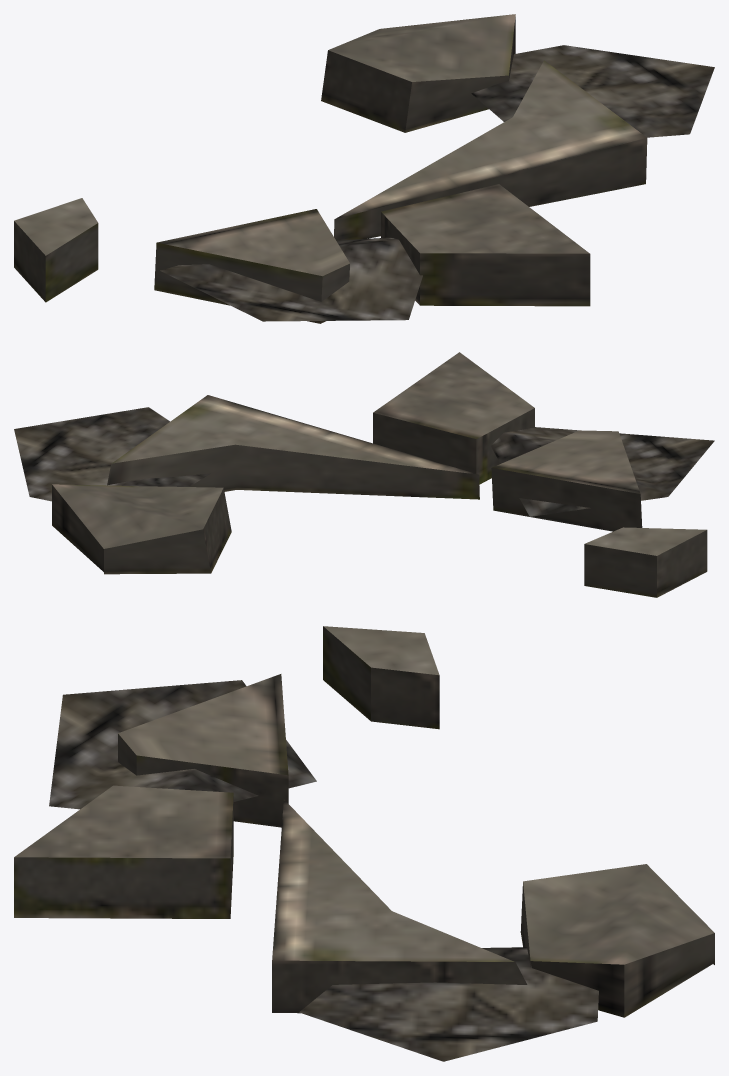
File: SM_EN_2005_suishi04.FBX
3 renders of one model, top to bottom at view 1: azimuth 30°, elevation 25°; view 2: azimuth 150°, elevation 25°; view 3: azimuth 270°, elevation 25°, orthographic. The views are drawn at different scales.
Parts seen in each view (by area): view 1: SM_EN_2005_suishi04; view 2: SM_EN_2005_suishi04; view 3: SM_EN_2005_suishi04.
Boxes of the visible parts, box(x1,y1,x2,y2) form: SM_EN_2005_suishi04: box(14, 14, 714, 323); SM_EN_2005_suishi04: box(14, 352, 714, 597); SM_EN_2005_suishi04: box(14, 626, 714, 1061).
Size of the model in its own units: 82.35 by 6.25 by 60.05.
